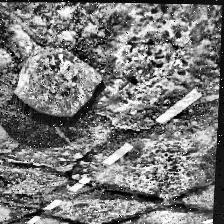pothole: (0, 37, 110, 153)
